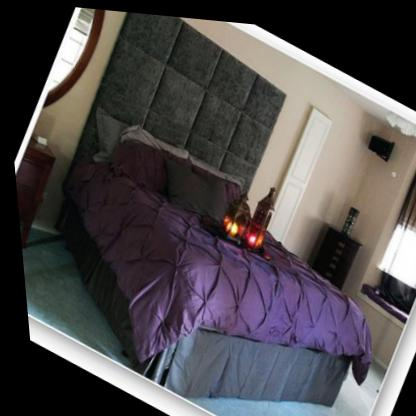Bed: (6, 91, 401, 416)
